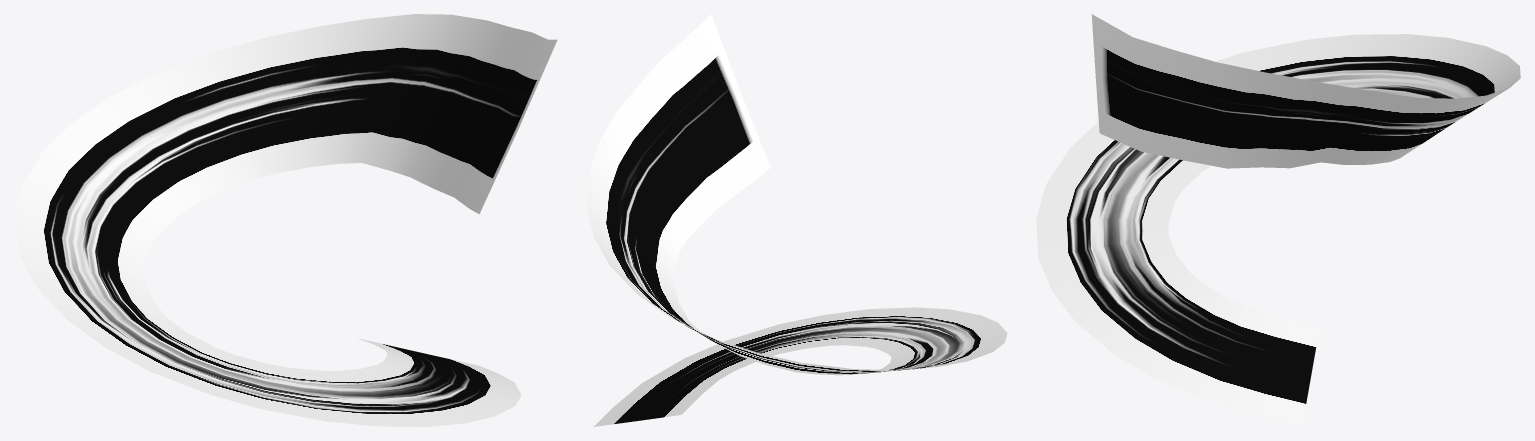
3 views of the same model, side by side, from view 1: azimuth 30°, elevation 25°; view 2: azimuth 150°, elevation 25°; view 3: azimuth 270°, elevation 25° (orthographic). The views are drawn at different scales.
Parts seen in each view (by area): view 1: Plane001; view 2: Plane001; view 3: Plane001.
Part boxes in pixels (<box>): Plane001: <box>14,14,557,426</box>; Plane001: <box>586,14,1007,426</box>; Plane001: <box>1036,14,1520,426</box>.
Bounding box in the file's own units: 206 × 185 × 203.
